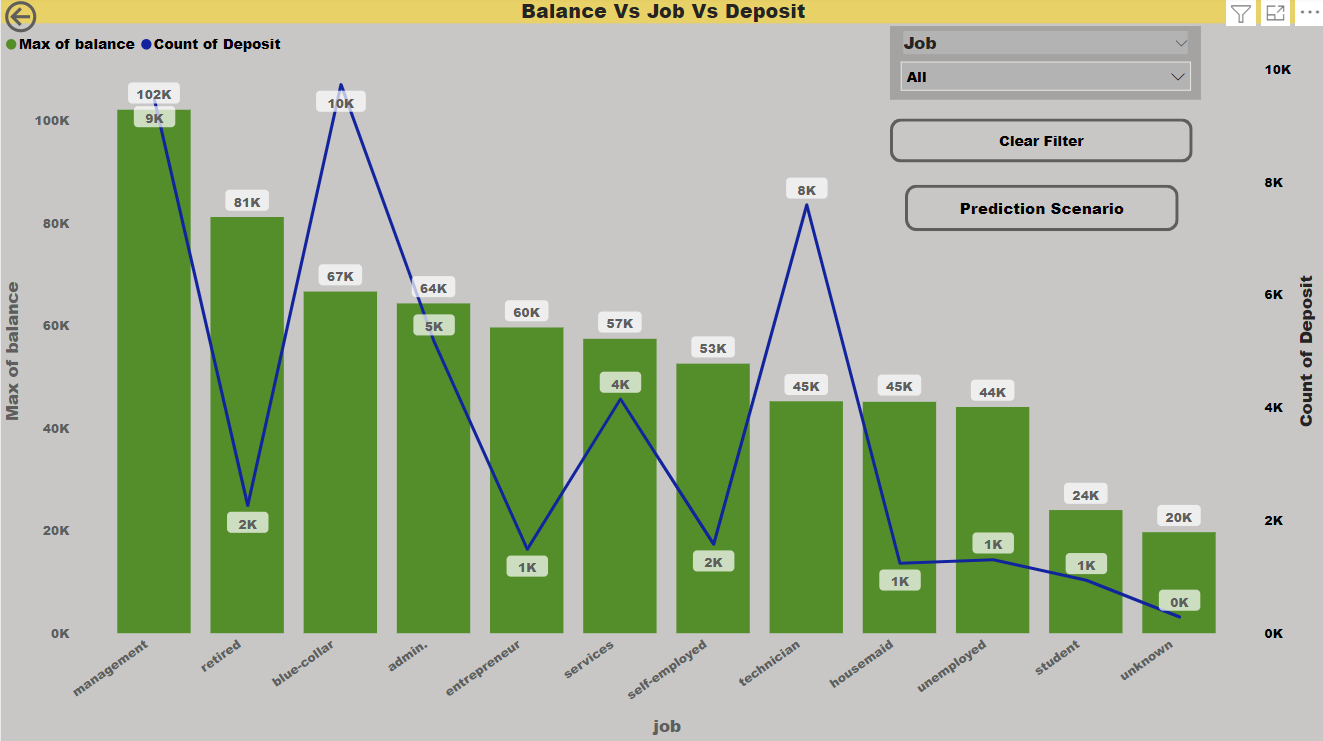

The dashboard page shown, as its layout file describes it:
{"tool":"powerbi","page":{"name":"Balance Vs Job Vs Deposit","canvas":[1280,720],"ordinal":16},"visuals":[{"type":"lineStackedColumnComboChart","title":"Balance Vs Job Vs Deposit","fields":{"Category":["bank-full_New.job"],"Y":["Max(bank-full_New.balance)"],"Y2":["CountNonNull(bank-full_New.Deposit)"]},"box":[0,0,1279.6,720],"z":0},{"type":"slicer","fields":{"Values":["bank-full_New.job"]},"box":[858.7,28.9,300.3,71.2],"z":1000},{"type":"actionButton","box":[858.7,118.2,291.9,42.2],"z":2000},{"type":"actionButton","box":[873.2,182.1,264.1,44.6],"z":3000},{"type":"actionButton","box":[0,0,82,39.8],"z":4000}]}

Visuals, with their boxes on the page's 1280x720 design canvas (x1, y1, x2, y2). These are canvas units, not pixel positions in the 1323x741 screenshot, which may show the page scaled, cropped or inside an application window:
"Balance Vs Job Vs Deposit" lineStackedColumnComboChart: 0,0,1280,720
slicer - bank-full_New.job: 859,29,1159,100
actionButton: 859,118,1151,160
actionButton: 873,182,1137,227
actionButton: 0,0,82,40
